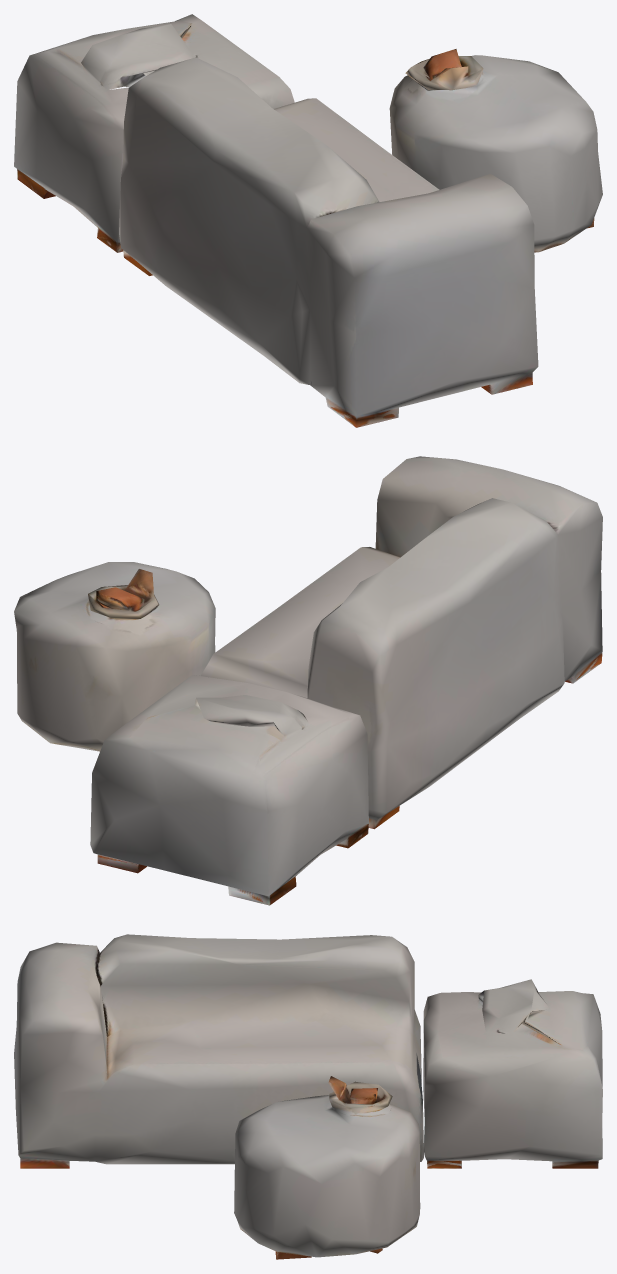
3 renders of one model, top to bottom at view 1: azimuth 30°, elevation 25°; view 2: azimuth 150°, elevation 25°; view 3: azimuth 270°, elevation 25°, orthographic. The views are drawn at different scales.
Visible parts, largest first — view 1: tripo_node_b8a8145e-77f4-46a7-8d2e-e8099542a9b7; view 2: tripo_node_b8a8145e-77f4-46a7-8d2e-e8099542a9b7; view 3: tripo_node_b8a8145e-77f4-46a7-8d2e-e8099542a9b7.
Boxes of the visible parts, bbox=[...] form: tripo_node_b8a8145e-77f4-46a7-8d2e-e8099542a9b7: bbox=[14, 14, 602, 427]; tripo_node_b8a8145e-77f4-46a7-8d2e-e8099542a9b7: bbox=[14, 456, 602, 905]; tripo_node_b8a8145e-77f4-46a7-8d2e-e8099542a9b7: bbox=[14, 934, 602, 1259].
Size of the model in its own units: 0.708 by 0.3308 by 1.
Materials: 1 (1 with a texture image).
